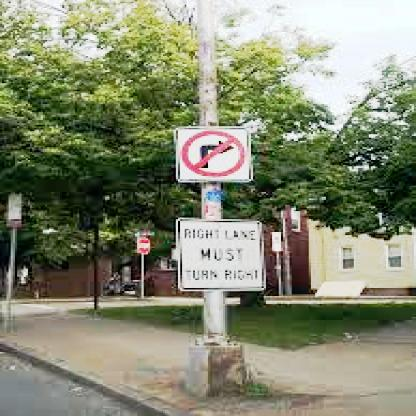No right turn: (174, 131, 260, 180)
